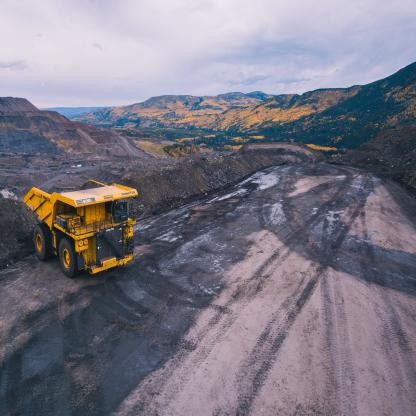dump_truck: (20, 173, 140, 281)
